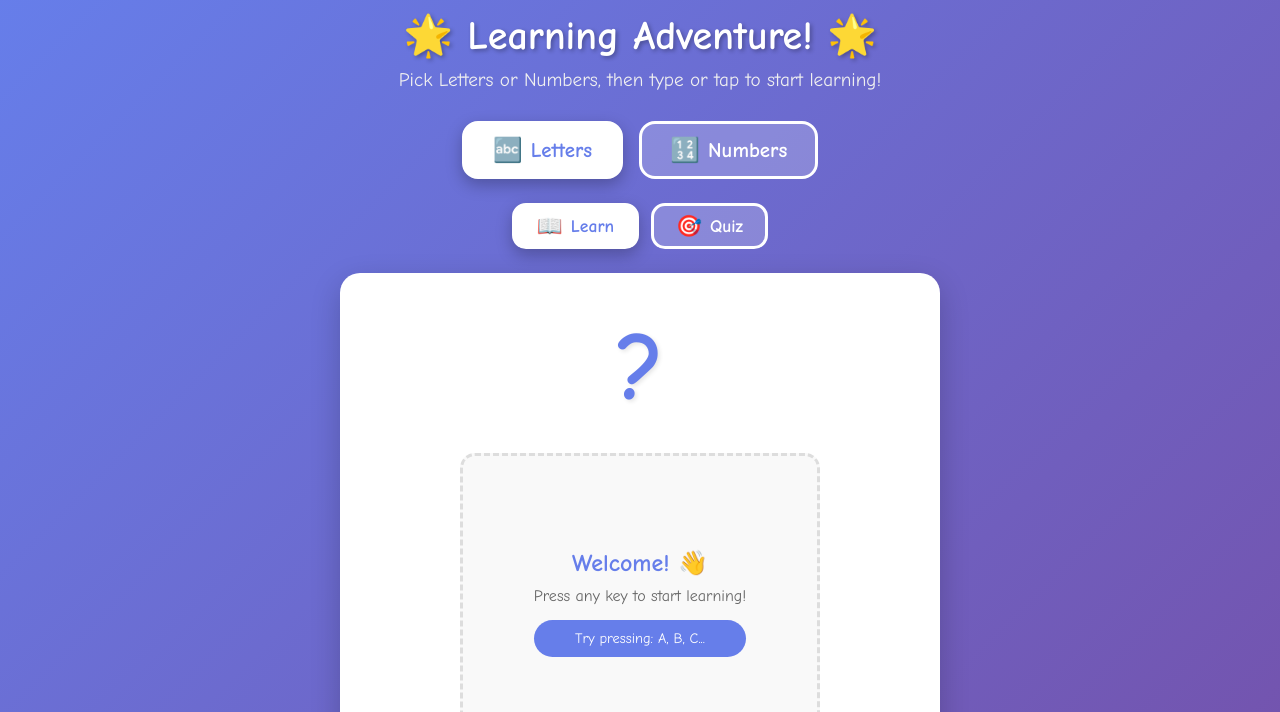
Test case: Numbers Learning Mode › Number selection › responds to number keyboard input
Step 1. Click the tab "🔢 Numbers" → coordinates (729, 150), box [639,121,818,179]
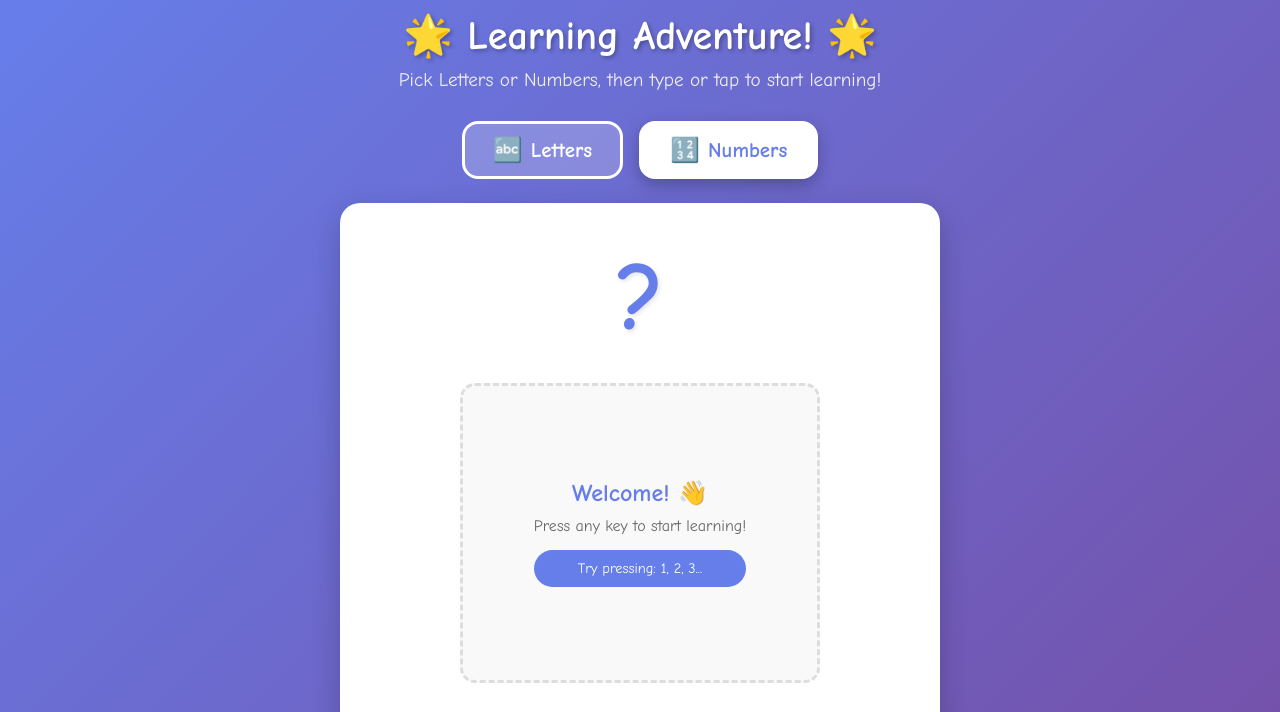
Step 2. Press 5
(page scrolled)
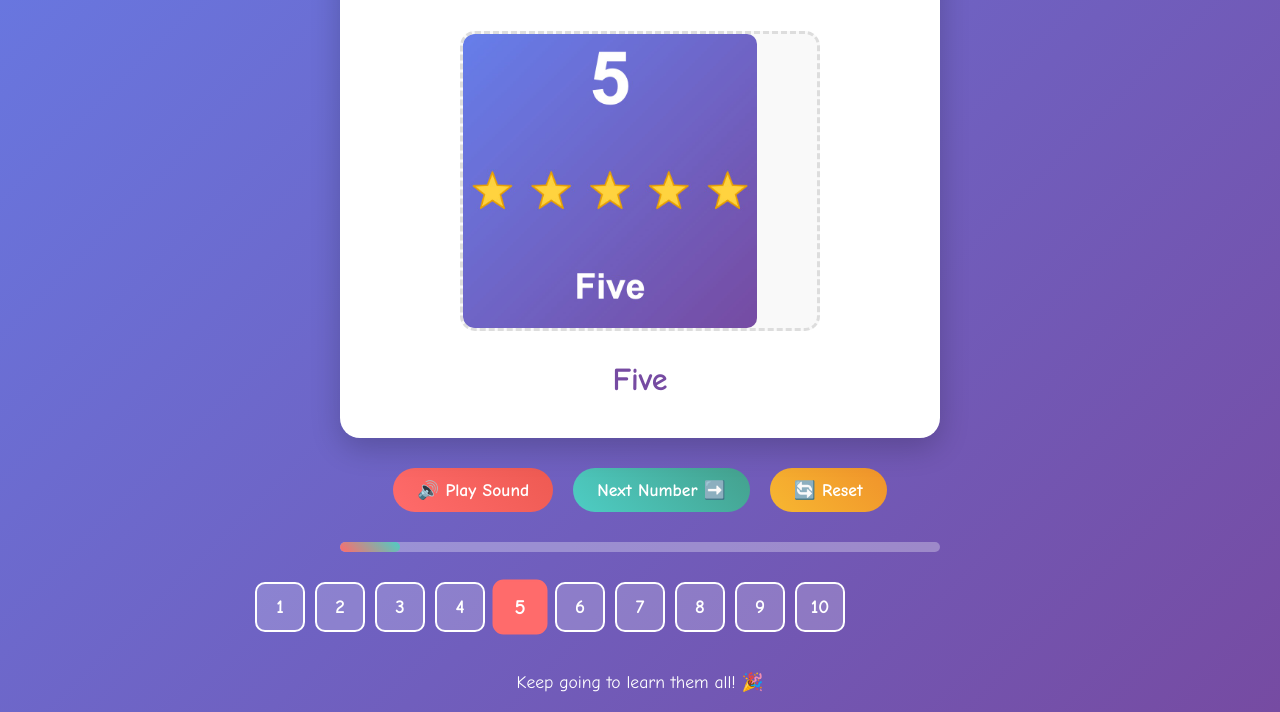
Expected: the text "Five" is shown, [612,361,668,398]
